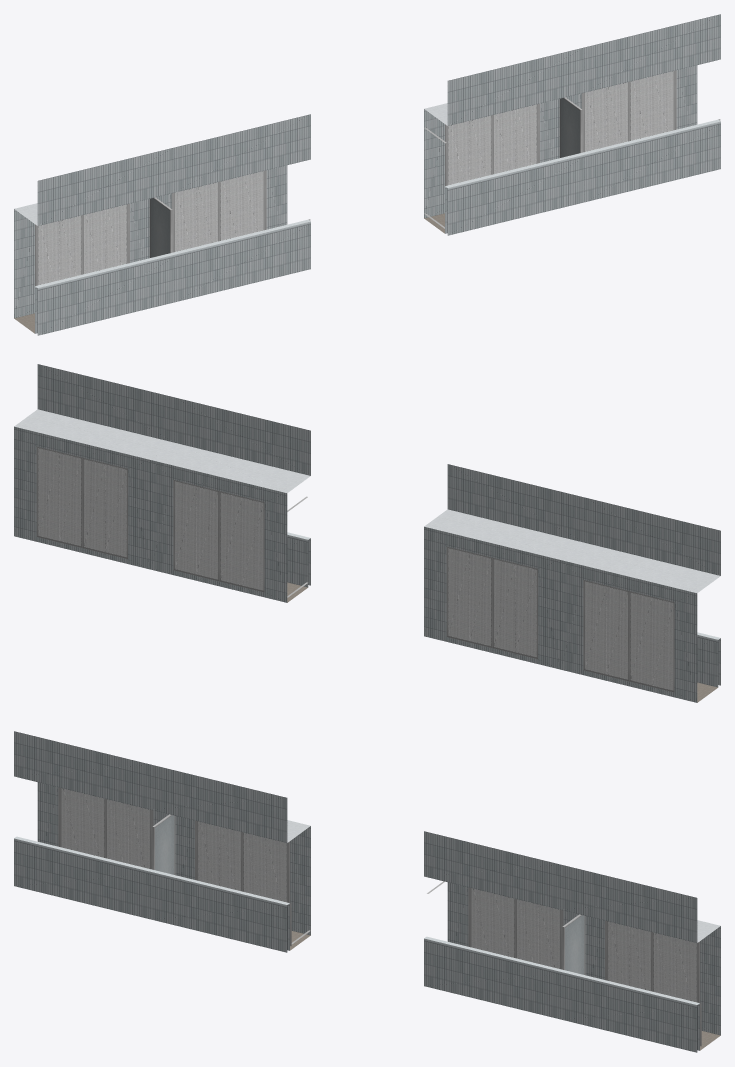
Rendered from One Room Apartment - day.glb.
The picture shows the model from 3 angles, top to bottom: view 1: azimuth 30°, elevation 25°; view 2: azimuth 150°, elevation 25°; view 3: azimuth 330°, elevation 25°; orthographic projection.
Parts seen in each view (by area): view 1: balcony background; view 2: balcony background; view 3: balcony background.
Boxes of the visible parts, x1=… form: balcony background: x1=14, y1=14, x2=720, y2=335; balcony background: x1=14, y1=364, x2=720, y2=702; balcony background: x1=14, y1=731, x2=720, y2=1052.
Bounding box in the file's own units: 15.04 × 3.25 × 0.9.
Materials: 9 (9 with a texture image).
